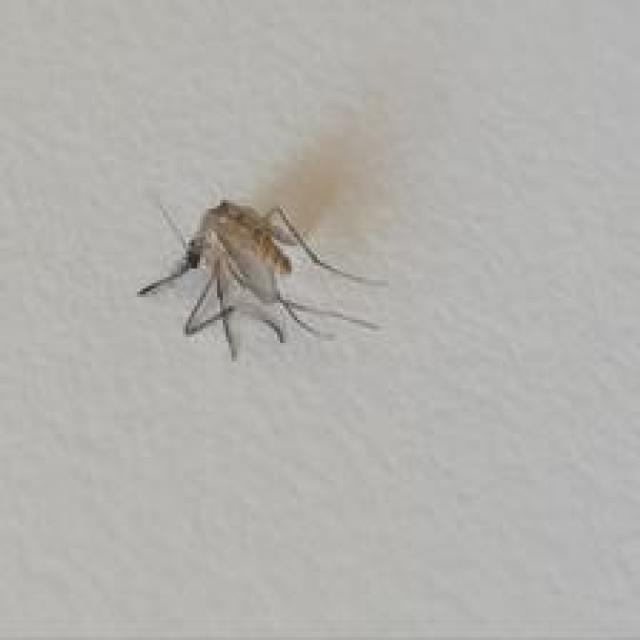Culex: (136, 196, 387, 361)
